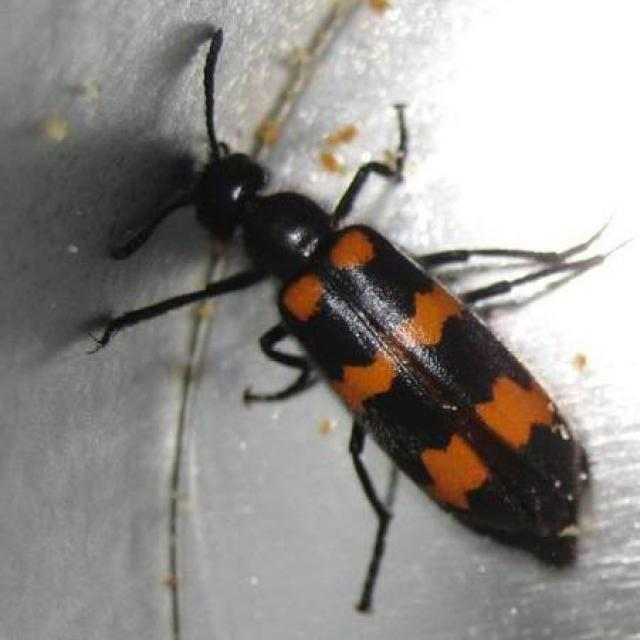BlisterBeetle-Adult-: (86, 25, 616, 603)
